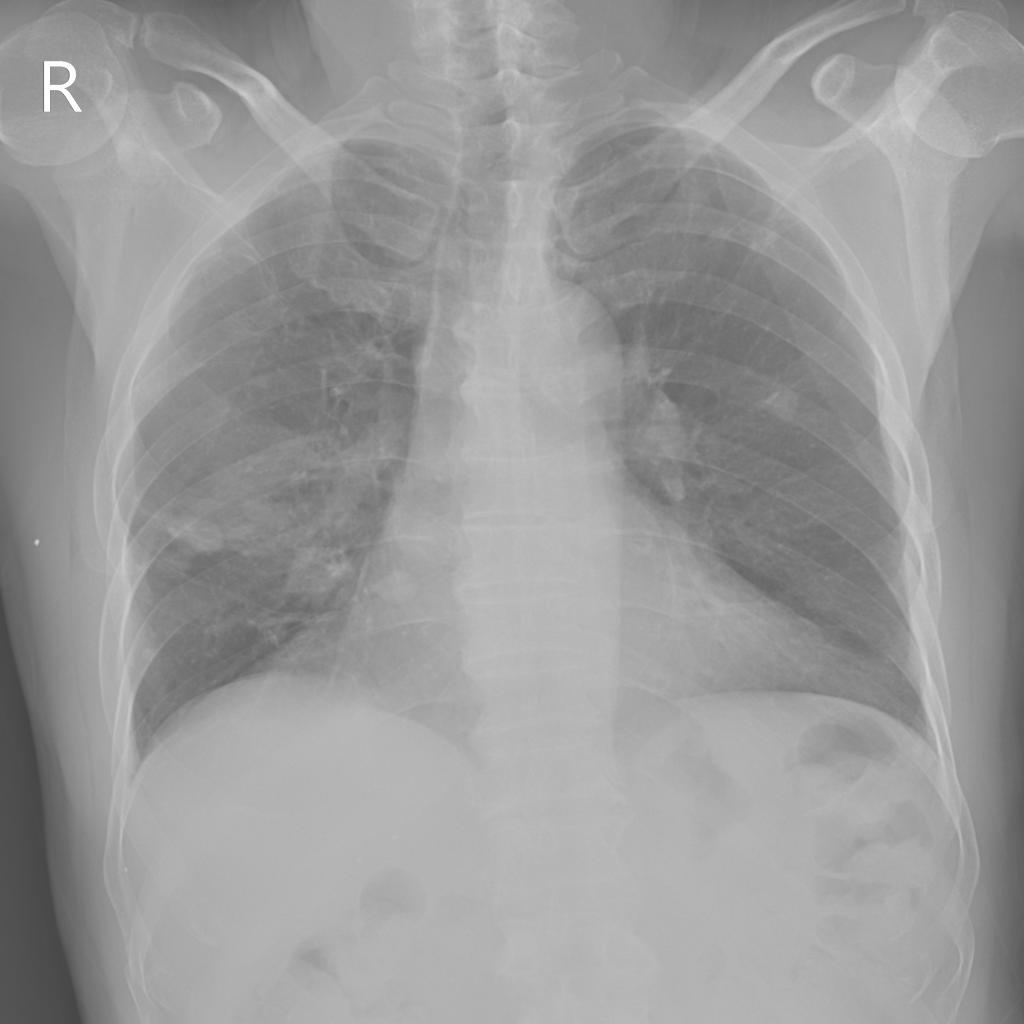Nodule: (290, 547, 341, 596), (376, 571, 422, 605), (188, 514, 225, 554), (768, 390, 802, 423), (245, 496, 280, 527), (155, 550, 187, 580), (127, 643, 157, 671)
